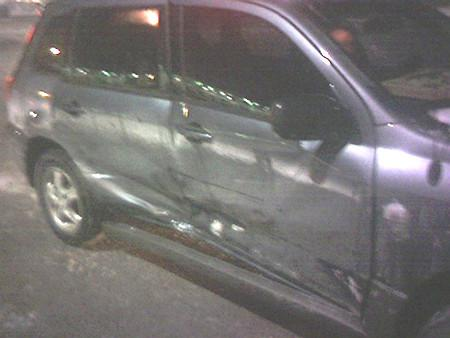RunningBoard-Dent: (80, 216, 223, 264)
doorouter-dent: (168, 82, 373, 294), (37, 79, 190, 214)
